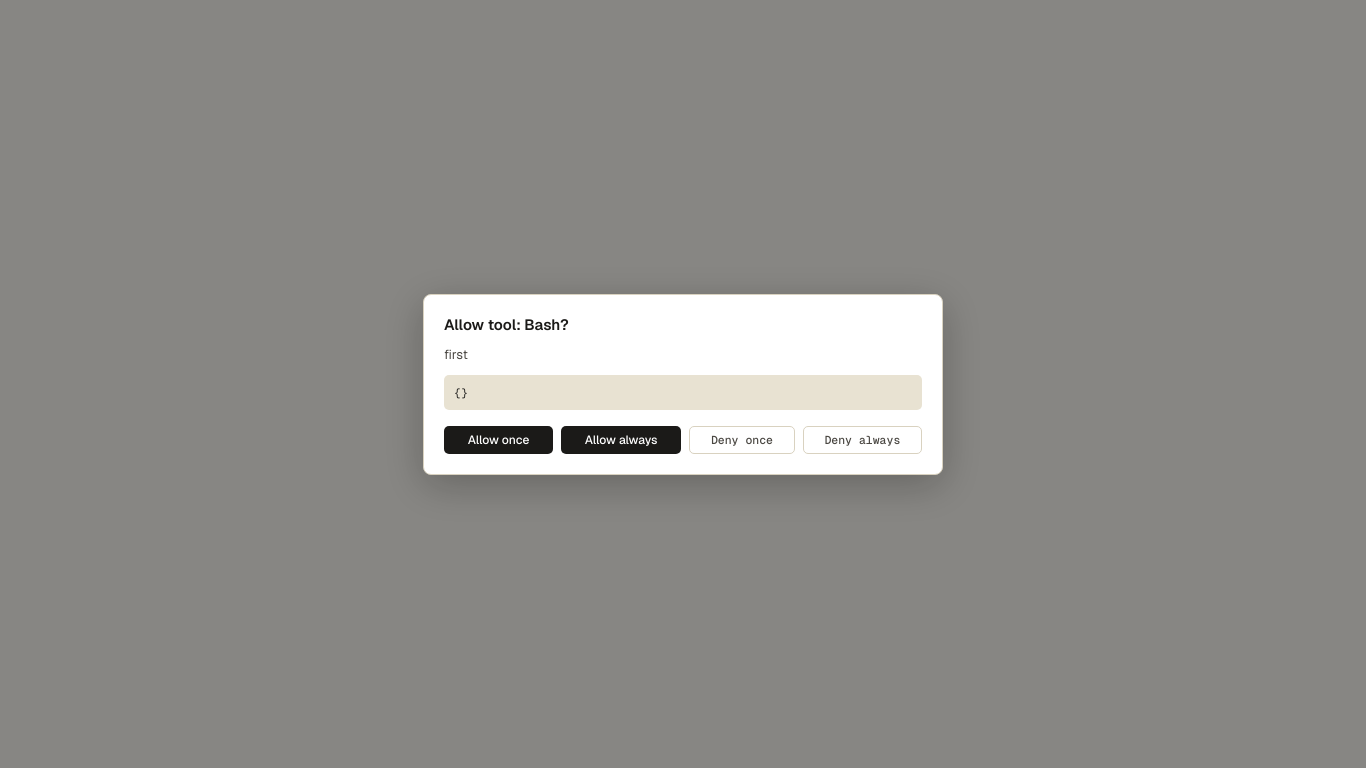
Scenario: AuthPrompt › dequeues the next pending request after clearing
The width and height of the screenshot is (1366, 768).
Click the button "Allow once".
click(498, 440)  # box [444,426,553,454]
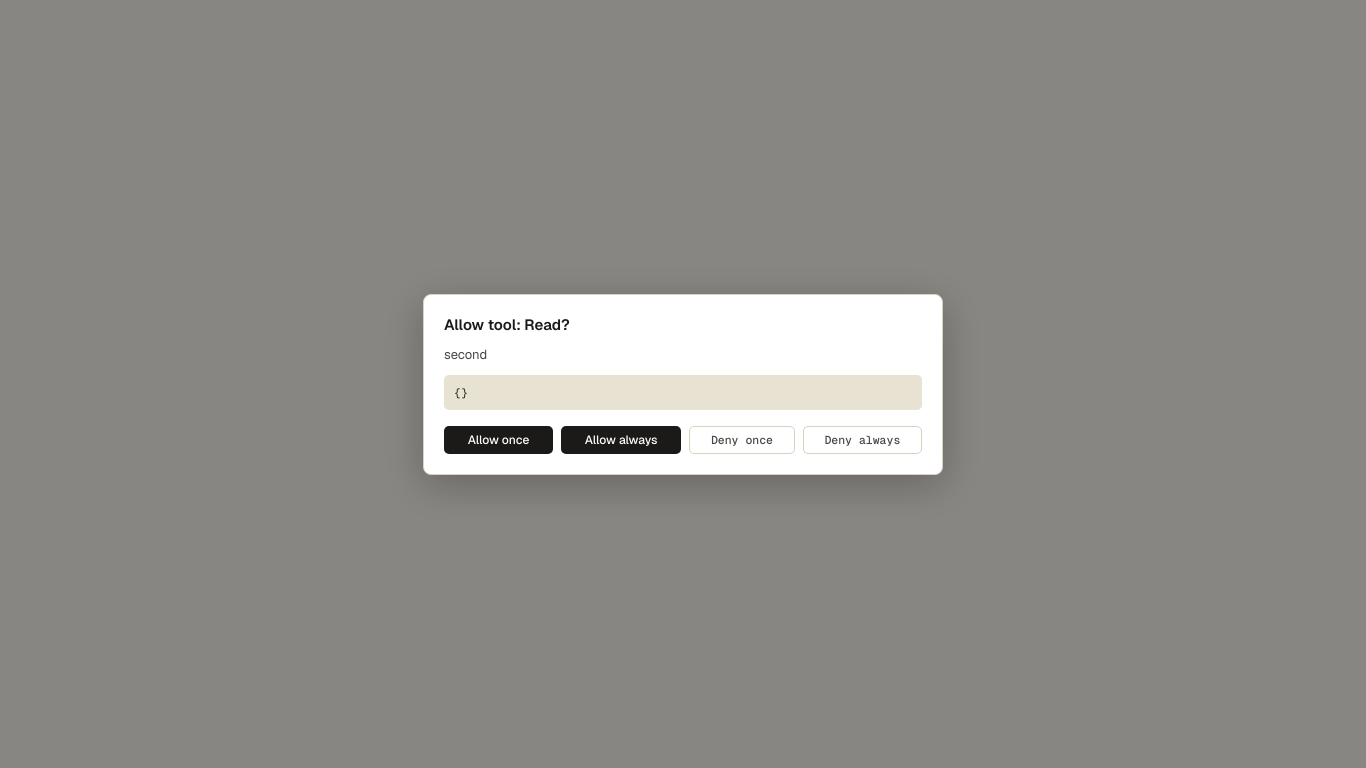
expect the text "second" is shown: met, box [444,346,487,362]
